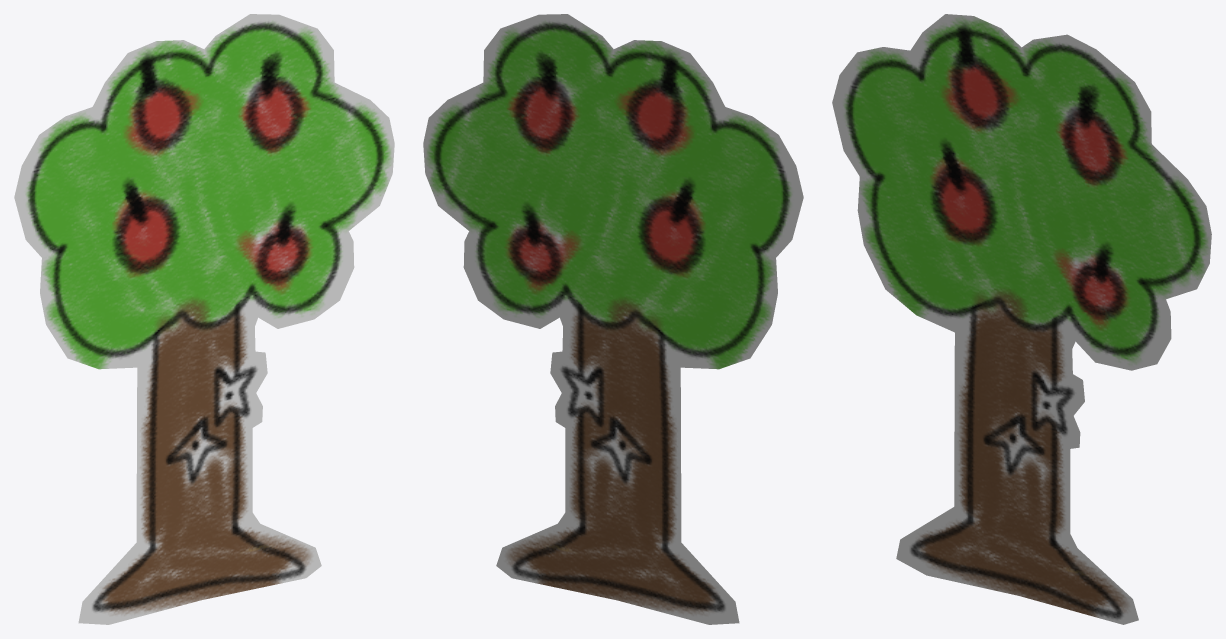
Rendered from TreeNinja.fbx.
3 views of the same model, side by side, from view 1: azimuth 30°, elevation 25°; view 2: azimuth 150°, elevation 25°; view 3: azimuth 330°, elevation 25° (orthographic).
Parts seen in each view (by area): view 1: Tree; view 2: Tree; view 3: Tree.
Boxes of the visible parts, x1,y1,x2,y2 form: Tree: (14,14,394,624); Tree: (423,14,803,624); Tree: (832,14,1211,624).
Size of the model in its own units: 189 by 274 by 4.47e-05.
Materials: 1 (1 with a texture image).
